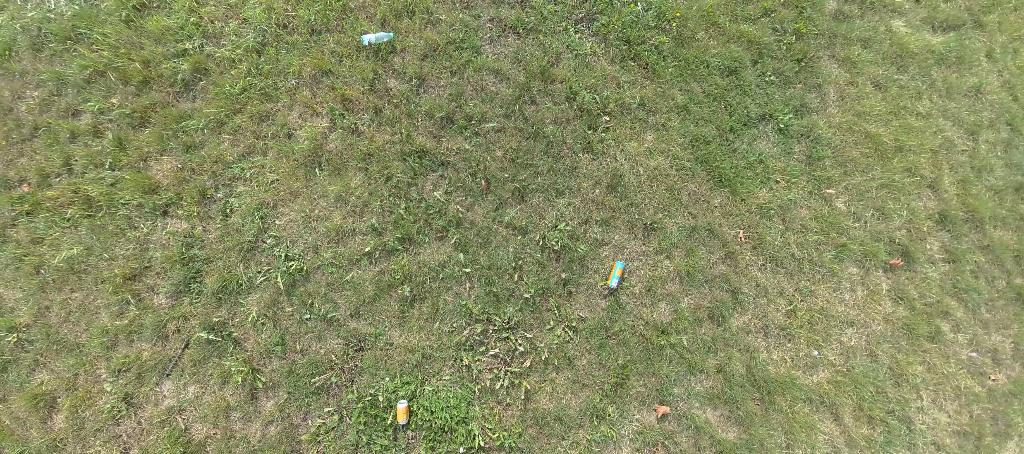garbage: (606, 258, 626, 291), (362, 32, 396, 47), (395, 399, 410, 428)
